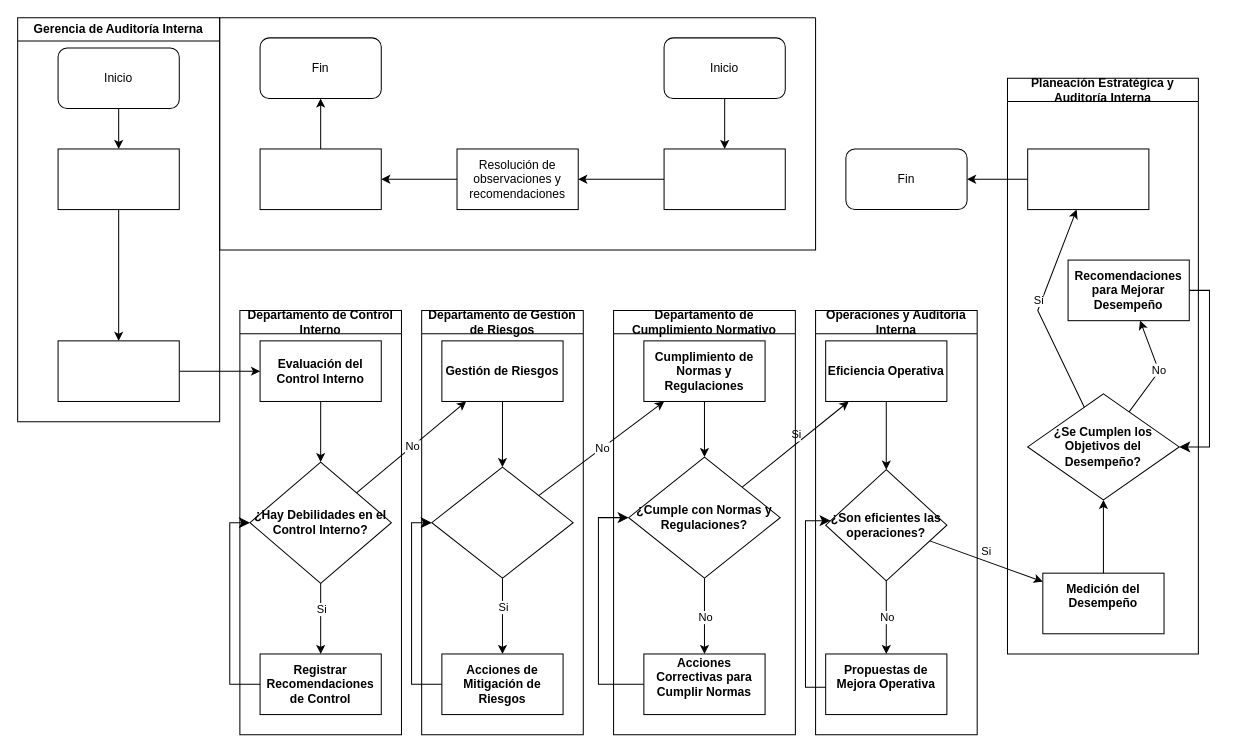
Image size: 1237x752. Some labels were removed from this diagram. The shapes that lost their labels are listed below. From the top down, each one's centre as x and y in pixels, then its label:
pixel 118 179: Establecer Objetivos del Desempeño
pixel 320 179: Cierre de Auditoría
pixel 724 179: Seguimiento de Recomendaciones
pixel 1088 179: Elaboración de Informes y Recomendaciones
pixel 118 370: Definir Objetivos de Auditoría(KPI)
pixel 502 522: ¿Existen Riesgos Significativos?
